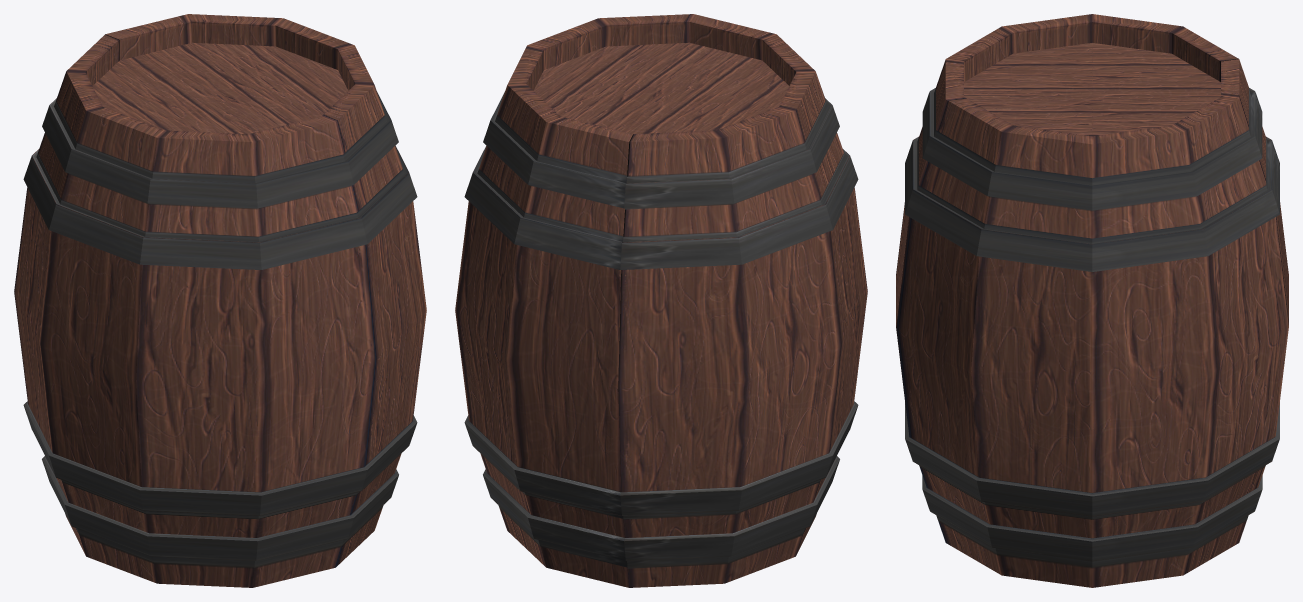
The model's file is bg_barrel.fbx.
3 renders of one model, left to right at view 1: azimuth 30°, elevation 25°; view 2: azimuth 150°, elevation 25°; view 3: azimuth 270°, elevation 25°, orthographic.
Parts seen in each view (by area): view 1: pCylinder1; view 2: pCylinder1; view 3: pCylinder1.
Boxes of the visible parts, x1,y1,x2,y2 form: pCylinder1: (14,14,426,587); pCylinder1: (455,14,867,587); pCylinder1: (896,14,1288,587).
Bounding box in the file's own units: 0.9045 × 1.07 × 0.8602.
1 material, 1 textured.
